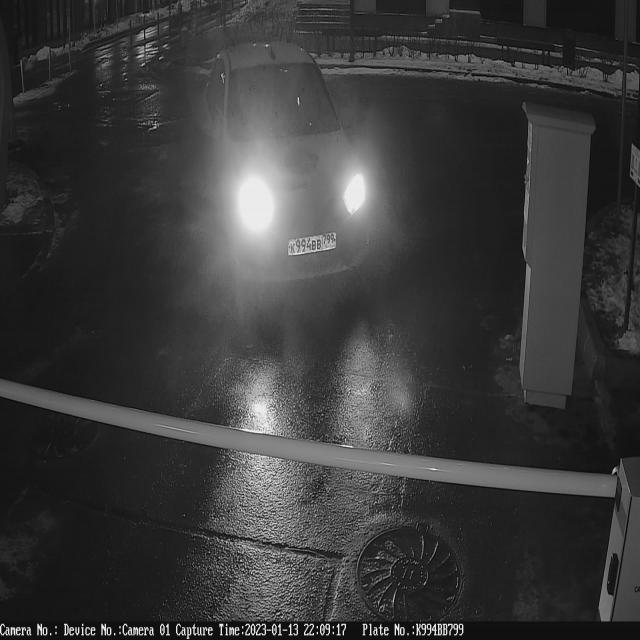car-plate-numbers: (288, 229, 342, 267)
